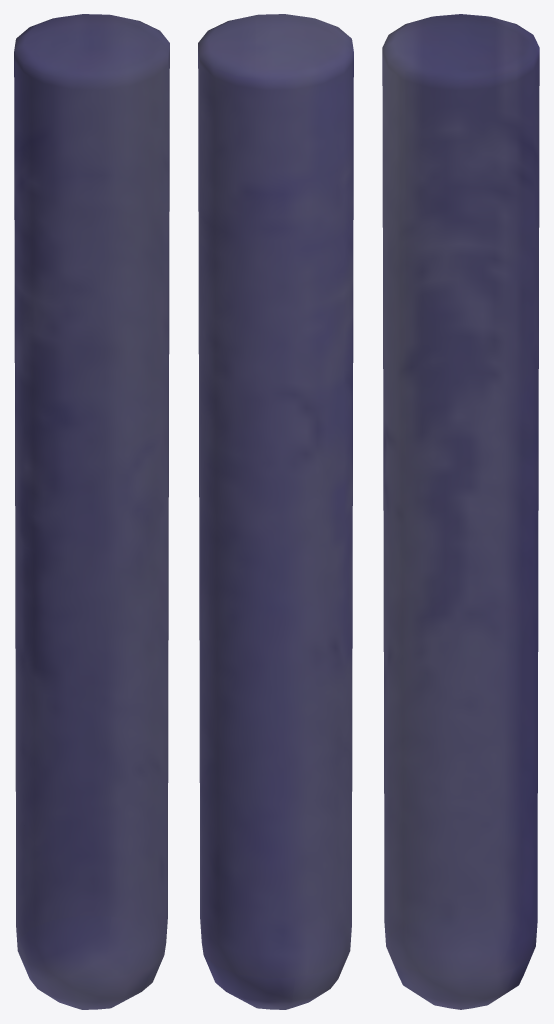
File: test_tube_content_d.glb
3 views of the same model, side by side, from view 1: azimuth 30°, elevation 25°; view 2: azimuth 150°, elevation 25°; view 3: azimuth 270°, elevation 25° (orthographic).
Visible parts, largest first — view 1: chemistry_set_test_tube_content_d.001; view 2: chemistry_set_test_tube_content_d.001; view 3: chemistry_set_test_tube_content_d.001.
Part boxes in pixels (bbox=[...]): chemistry_set_test_tube_content_d.001: bbox=[14, 14, 169, 1009]; chemistry_set_test_tube_content_d.001: bbox=[198, 14, 353, 1009]; chemistry_set_test_tube_content_d.001: bbox=[382, 14, 539, 1009].
Bounding box in the file's own units: 0.0128 × 0.0858 × 0.0128.
1 material, 1 textured.
